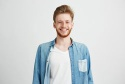male: (50, 6, 77, 39)
